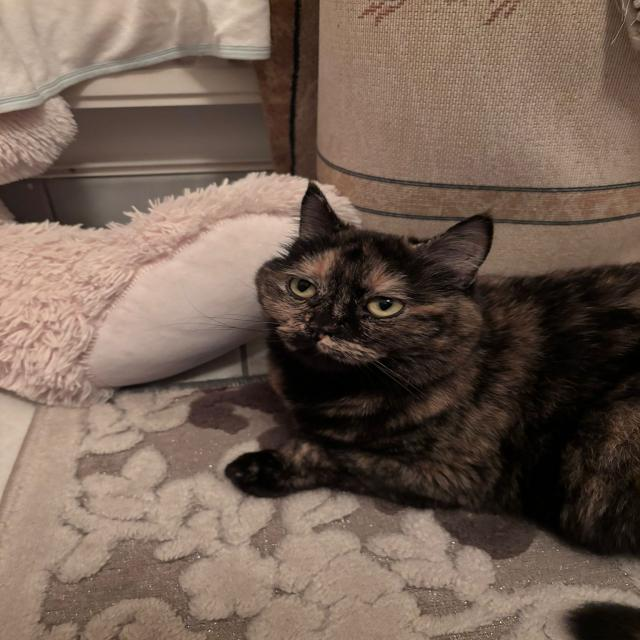authorized: (220, 179, 638, 559)
